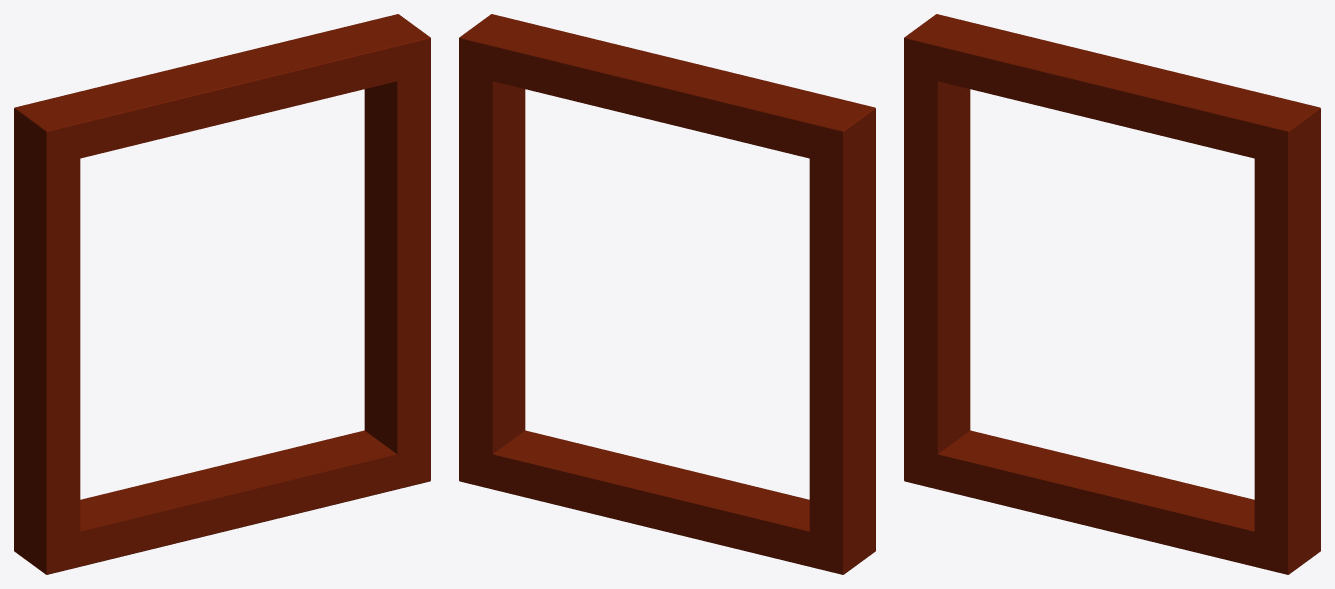
3 views of the same model, side by side, from view 1: azimuth 30°, elevation 25°; view 2: azimuth 150°, elevation 25°; view 3: azimuth 330°, elevation 25° (orthographic).
Visible parts, largest first — view 1: Part 1; view 2: Part 1; view 3: Part 1.
Part boxes in pixels (left/top/right/bottom): Part 1: left=14, top=14, right=430, bottom=574; Part 1: left=459, top=14, right=875, bottom=574; Part 1: left=904, top=14, right=1320, bottom=574.
Bounding box in the file's own units: 0.8636 × 0.9525 × 0.127.
